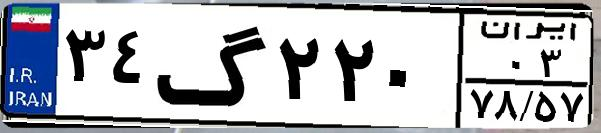0: (385, 28, 445, 110), (508, 27, 537, 80)
2: (270, 28, 330, 110), (330, 28, 385, 110)
3: (57, 26, 110, 100), (537, 27, 568, 80)
4: (110, 28, 156, 98)
5: (535, 70, 560, 125)
7: (560, 70, 590, 125), (470, 70, 495, 125)
8: (495, 70, 520, 125)
گ: (156, 12, 270, 120)
